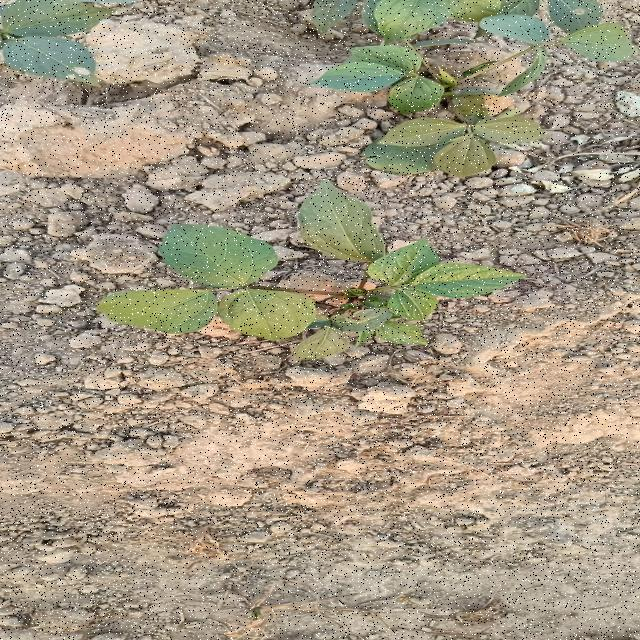plant: (95, 182, 523, 359)
